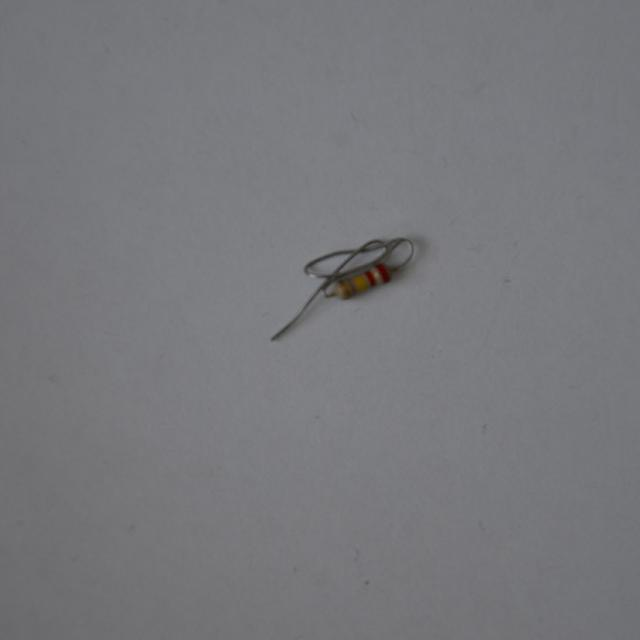gold: (340, 279, 350, 296)
red: (365, 271, 377, 285), (379, 265, 387, 281)
resistor: (328, 256, 401, 310)
yellow: (353, 275, 365, 292)
